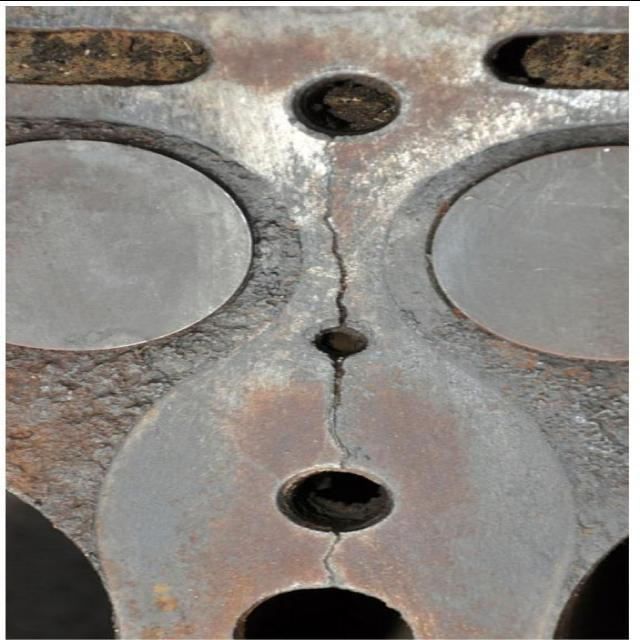defect: (315, 132, 353, 327), (320, 349, 355, 472), (319, 524, 344, 588)
